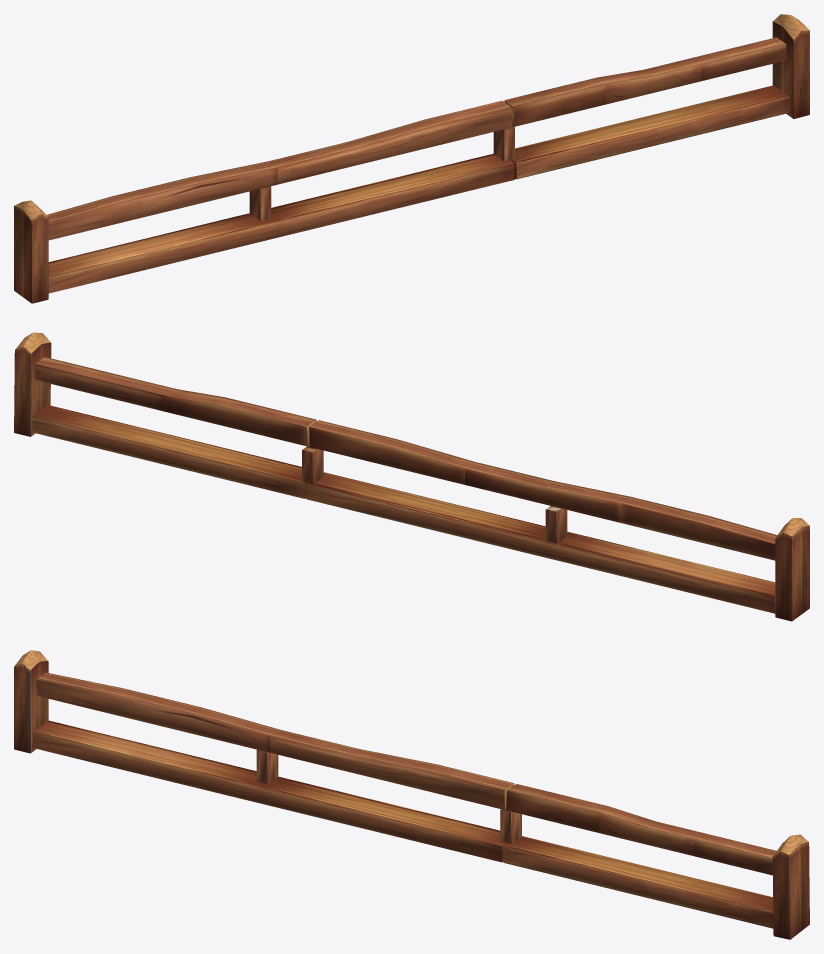
The model's file is low_rail.fbx.
3 renders of one model, top to bottom at view 1: azimuth 30°, elevation 25°; view 2: azimuth 150°, elevation 25°; view 3: azimuth 330°, elevation 25°, orthographic.
Visible parts, largest first — view 1: lowRail; view 2: lowRail; view 3: lowRail.
Part boxes in pixels (x1,y1,x2,y2): lowRail: (14,14,809,303); lowRail: (14,332,809,621); lowRail: (14,650,809,939).
Size of the model in its own units: 413 by 48.27 by 19.35.
1 material, 1 textured.
